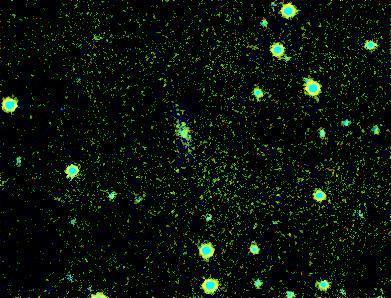star: (165, 107, 195, 137)
